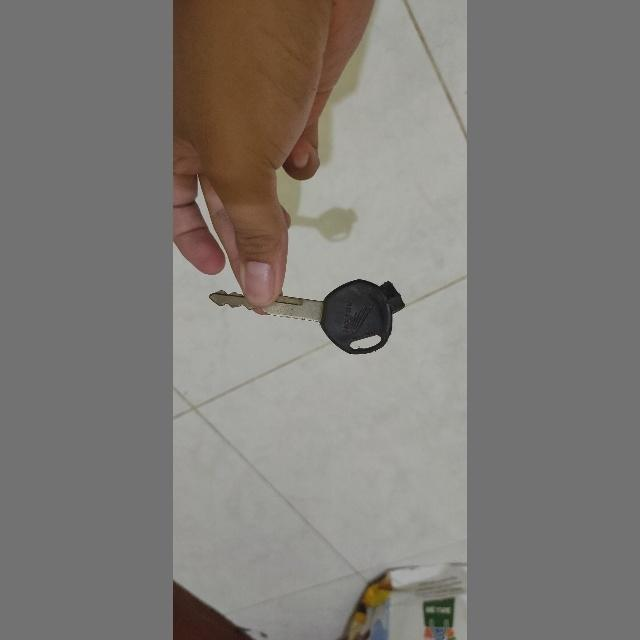Keys: (200, 266, 412, 360)
